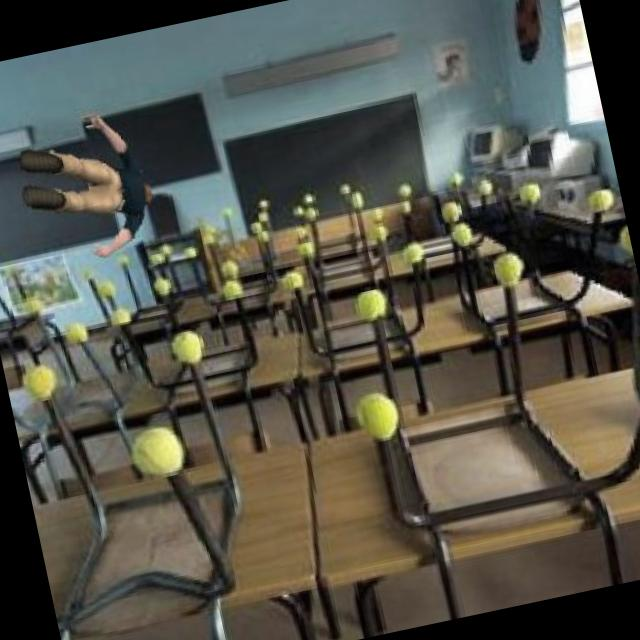Person: (5, 100, 167, 274)
